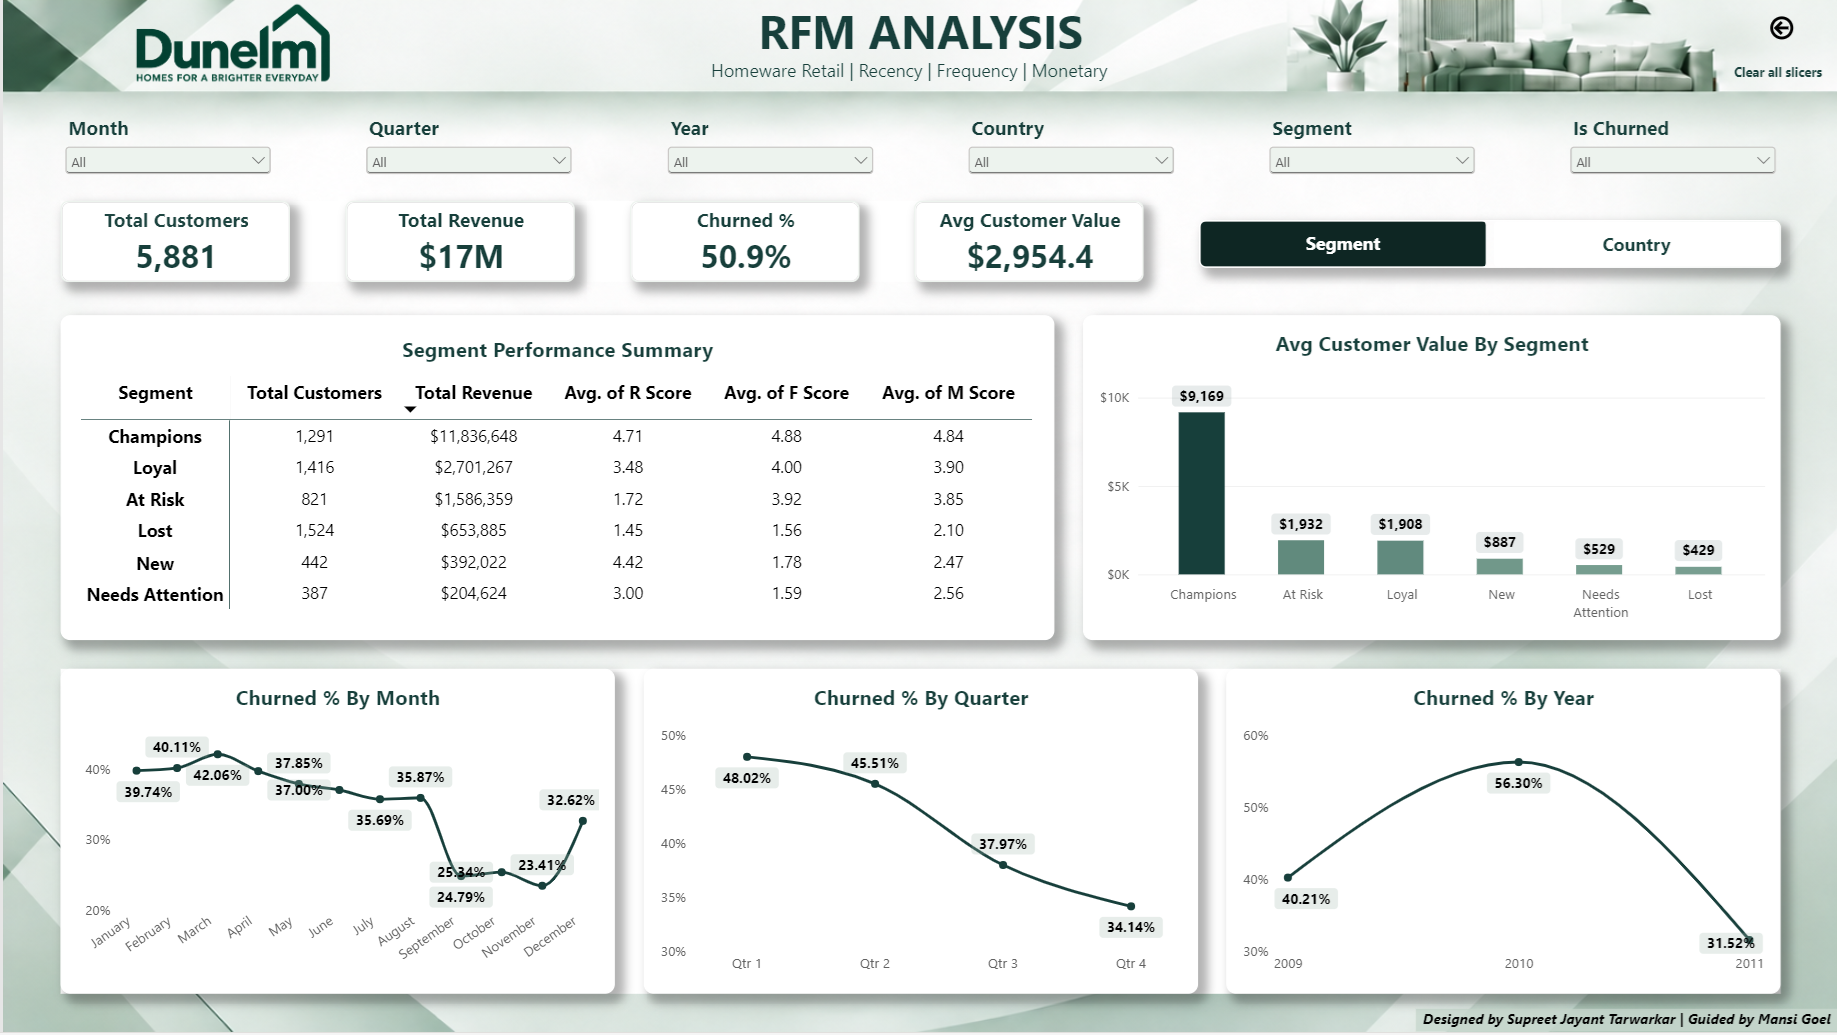

Layout of this report page (visuals, bound fields, positions):
{"tool":"powerbi","page":{"name":"RFM Analysis ","canvas":[1920,1080],"ordinal":2},"visuals":[{"type":"slicer","title":"Month","fields":{"Values":["Sheet1.invoicedate.Variation.Date Hierarchy.Month"]},"box":[60,120,225,65],"z":0,"group":"g4"},{"type":"cardVisual","title":"Total Customers","fields":{"Data":["Cal  Measures.Total Customers"]},"box":[60.4,210,240,85],"z":0,"group":"g3"},{"type":"clusteredColumnChart","title":"Avg Customer Value By Segment","fields":{"Category":["Sheet1.Segment"],"Y":["Cal  Measures.Avg Customer Value"]},"box":[1130,330,730,340],"z":0,"group":"g2"},{"type":"lineChart","title":"Churned % By Year","fields":{"Category":["Sheet1.invoicedate.Variation.Date Hierarchy.Year"],"Y":["Cal  Measures.Churned %"]},"box":[1280,700,580,340],"z":0,"group":"g1"},{"type":"shape","box":[1478.3,1055.8,441.7,24.2],"z":0},{"type":"slicer","title":"Quarter","fields":{"Values":["Sheet1.invoicedate.Variation.Date Hierarchy.Quarter"]},"box":[375,120,225,65],"z":1000,"group":"g4"},{"type":"cardVisual","title":"Total Revenue","fields":{"Data":["Cal  Measures.Total Revenue"]},"box":[358.2,210,240,85],"z":1000,"group":"g3"},{"type":"pivotTable","title":"Segment Performance Summary","fields":{"Rows":["Sheet1.Segment"],"Values":["Cal  Measures.Total Customers","Cal  Measures.Total Revenue","Avg(Sheet1.R_Score)","Avg(Sheet1.F_Score)","Avg(Sheet1.M_Score)"]},"box":[60,330,1040,340],"z":1000,"group":"g2"},{"type":"lineChart","title":"Churned % By Quarter","fields":{"Category":["Sheet1.invoicedate.Variation.Date Hierarchy.Quarter"],"Y":["Cal  Measures.Churned %"]},"box":[670,700,580,340],"z":1000,"group":"g1"},{"type":"textbox","title":"Author","box":[1478.3,1055.8,441.7,24.2],"z":1000},{"type":"slicer","title":"Year","fields":{"Values":["Sheet1.invoicedate.Variation.Date Hierarchy.Year"]},"box":[690,120,225,65],"z":2000,"group":"g4"},{"type":"cardVisual","title":"Churned %","fields":{"Data":["Cal  Measures.Churned %"]},"box":[656.1,210,240,85],"z":2000,"group":"g3"},{"type":"group","id":"g1","title":"Line Chart","box":[60,700,1800,340],"z":2000},{"type":"lineChart","title":"Churned % By Month","fields":{"Category":["Sheet1.invoicedate.Variation.Date Hierarchy.Month"],"Y":["Cal  Measures.Churned %"]},"box":[60,700,580,340],"z":2000,"group":"g1"},{"type":"slicer","title":"Country","fields":{"Values":["Sheet1.country"]},"box":[1005,120,225,65],"z":3000,"group":"g4"},{"type":"cardVisual","title":"Avg Customer Value","fields":{"Data":["Cal  Measures.Avg Customer Value"]},"box":[953.9,210,240,85],"z":3000,"group":"g3"},{"type":"group","id":"g2","title":"Segment","box":[60,330,1800,340],"z":3000},{"type":"slicer","title":"Segment","fields":{"Values":["Sheet1.Segment"]},"box":[1320,120,225,65],"z":4000,"group":"g4"},{"type":"slicer","title":"Is Churned","fields":{"Values":["Sheet1.IsChurned"]},"box":[1635,120,225,65],"z":5000,"group":"g4"},{"type":"group","id":"g3","title":"KPI'S","box":[60.4,210,1133.5,85],"z":5000},{"type":"group","id":"g4","title":"Slicer","box":[60,120,1800,65],"z":6000},{"type":"bookmarkNavigator","box":[1251.7,230,609.3,50.3],"z":7000},{"type":"textbox","title":"Sub Title","box":[741.2,60.6,437.7,35],"z":8000},{"type":"textbox","title":"Title","box":[708.9,0,502.3,80],"z":9000},{"type":"image","title":"Logo","box":[82.1,0,324.5,95.6],"z":10000},{"type":"actionButton","title":"Back Botton","box":[1830.1,9.4,61.9,40.4],"z":11000},{"type":"actionButton","title":"Clear Slicer Button","box":[1795,54,125,40],"z":12000}]}

Visuals, with their boxes in screenshot pixels (x1, y1, x2, y2), scaled from the page's 1920x1080 canvas onto the 1837x1035 screenshot:
"Month" slicer: bbox=[57, 115, 273, 177]
"Total Customers" cardVisual: bbox=[58, 201, 287, 283]
"Avg Customer Value By Segment" clusteredColumnChart: bbox=[1081, 316, 1780, 642]
"Churned % By Year" lineChart: bbox=[1225, 671, 1780, 997]
shape: bbox=[1414, 1012, 1836, 1034]
"Quarter" slicer: bbox=[359, 115, 574, 177]
"Total Revenue" cardVisual: bbox=[343, 201, 572, 283]
"Segment Performance Summary" pivotTable: bbox=[57, 316, 1052, 642]
"Churned % By Quarter" lineChart: bbox=[641, 671, 1196, 997]
"Author" textbox: bbox=[1414, 1012, 1836, 1034]
"Year" slicer: bbox=[660, 115, 875, 177]
"Churned %" cardVisual: bbox=[628, 201, 857, 283]
"Line Chart" group: bbox=[57, 671, 1780, 997]
"Churned % By Month" lineChart: bbox=[57, 671, 612, 997]
"Country" slicer: bbox=[962, 115, 1177, 177]
"Avg Customer Value" cardVisual: bbox=[913, 201, 1142, 283]
"Segment" group: bbox=[57, 316, 1780, 642]
"Segment" slicer: bbox=[1263, 115, 1478, 177]
"Is Churned" slicer: bbox=[1564, 115, 1780, 177]
"KPI'S" group: bbox=[58, 201, 1142, 283]
"Slicer" group: bbox=[57, 115, 1780, 177]
bookmarkNavigator: bbox=[1198, 220, 1781, 269]
"Sub Title" textbox: bbox=[709, 58, 1128, 92]
"Title" textbox: bbox=[678, 0, 1159, 77]
"Logo" image: bbox=[79, 0, 389, 92]
"Back Botton" actionButton: bbox=[1751, 9, 1810, 48]
"Clear Slicer Button" actionButton: bbox=[1717, 52, 1836, 90]
